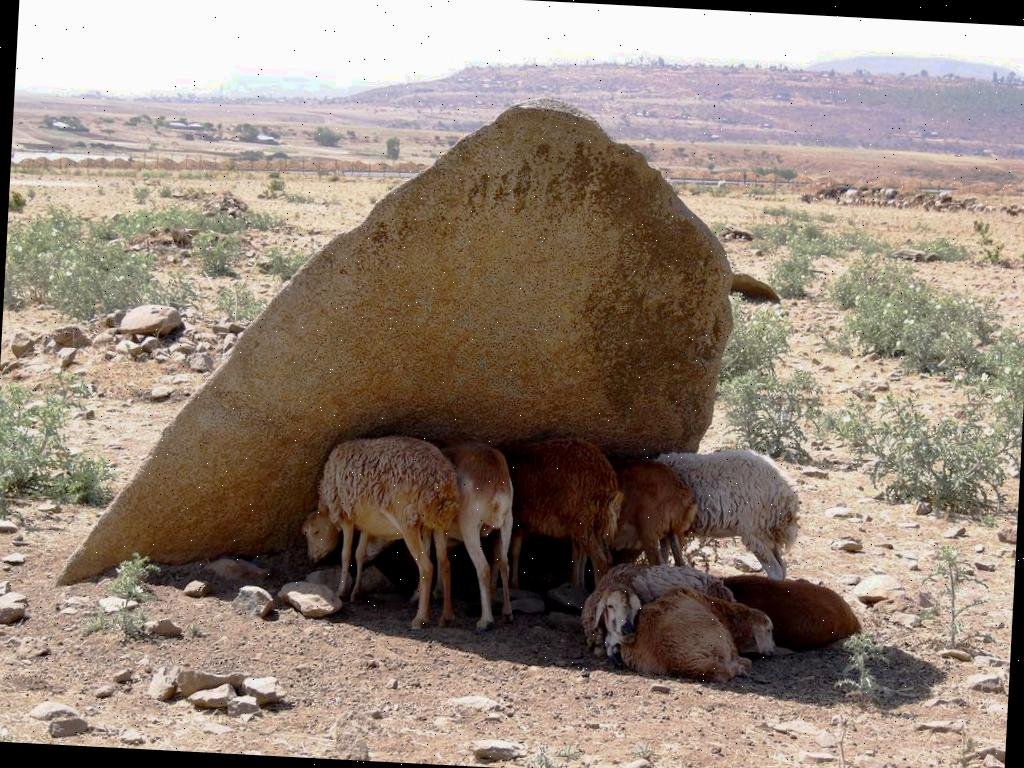Sheep: (299, 428, 470, 645), (635, 440, 816, 583), (618, 570, 785, 689), (574, 558, 652, 670)
